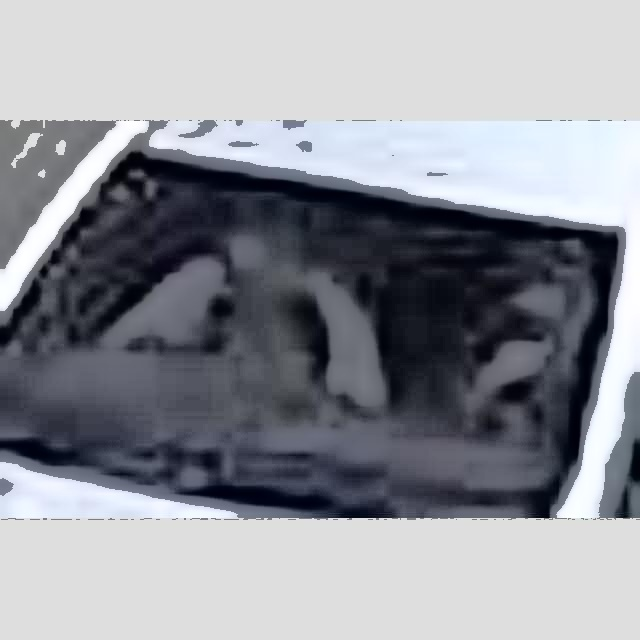tidak-pakai: (107, 189, 368, 402)
